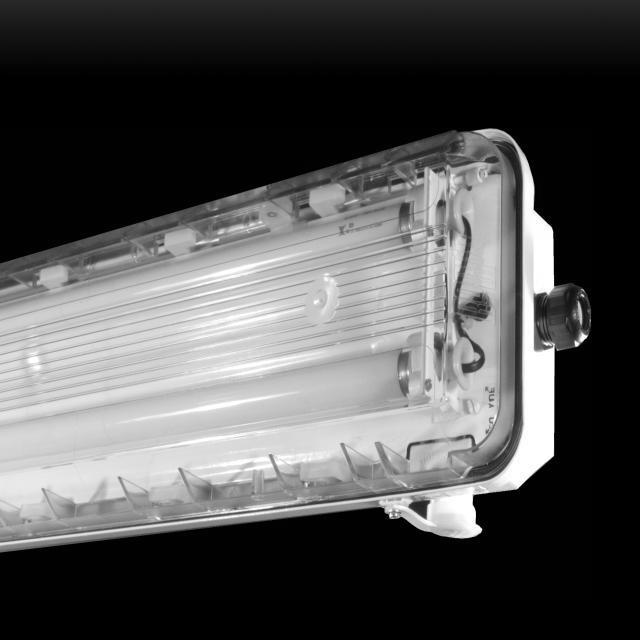light: (0, 126, 591, 553)
